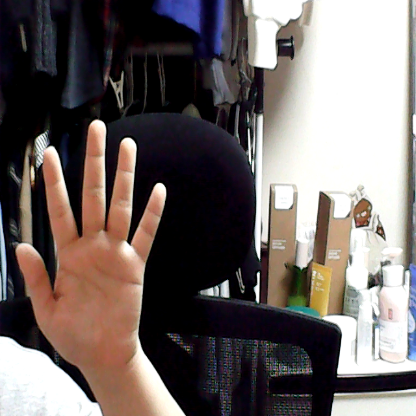Finger_5: (8, 111, 175, 377)
